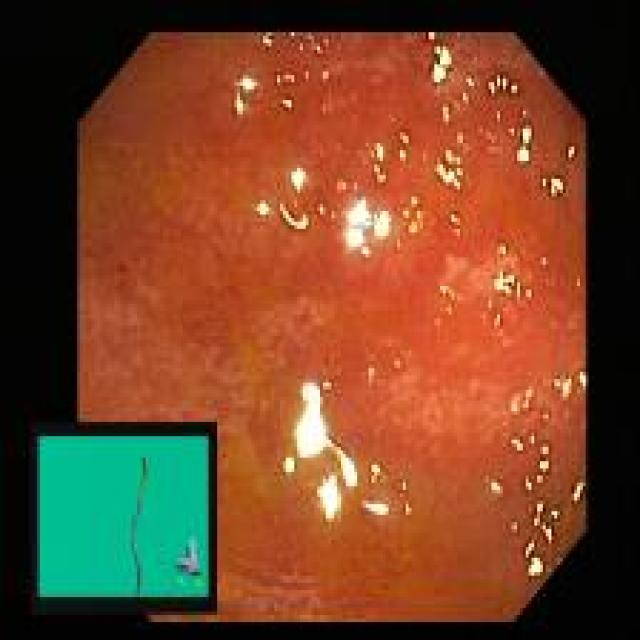ulcerative-colitis: (79, 33, 586, 620)
